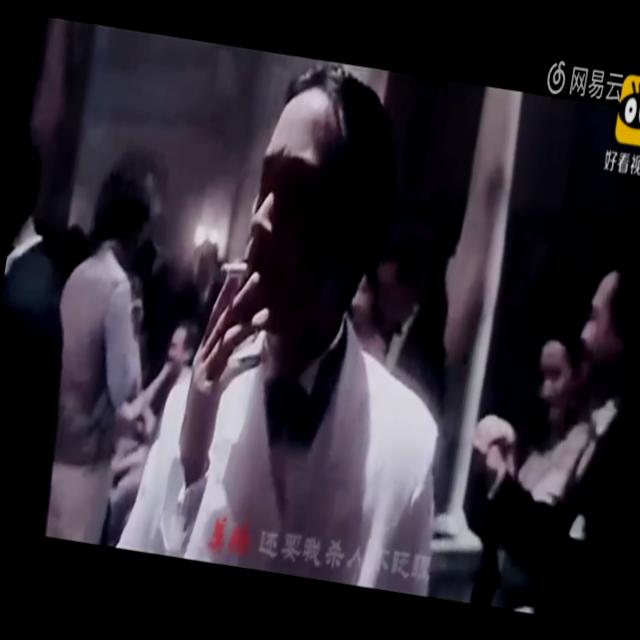cigarette: (220, 257, 252, 280)
